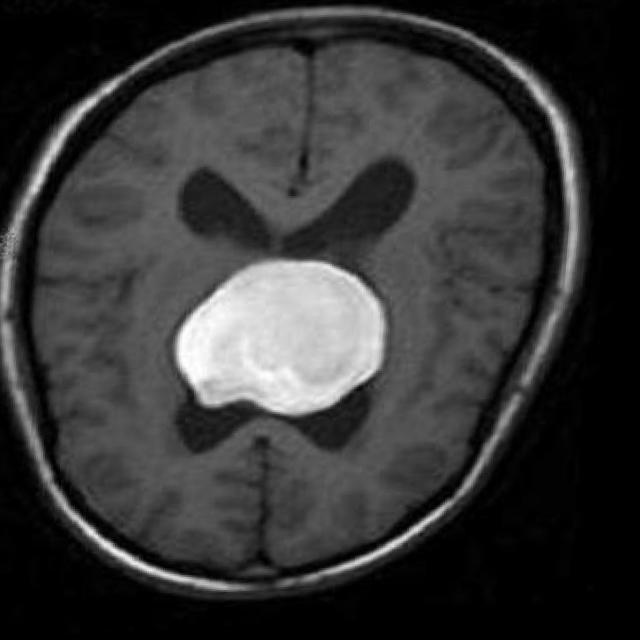Tumor: (180, 262, 391, 421)
